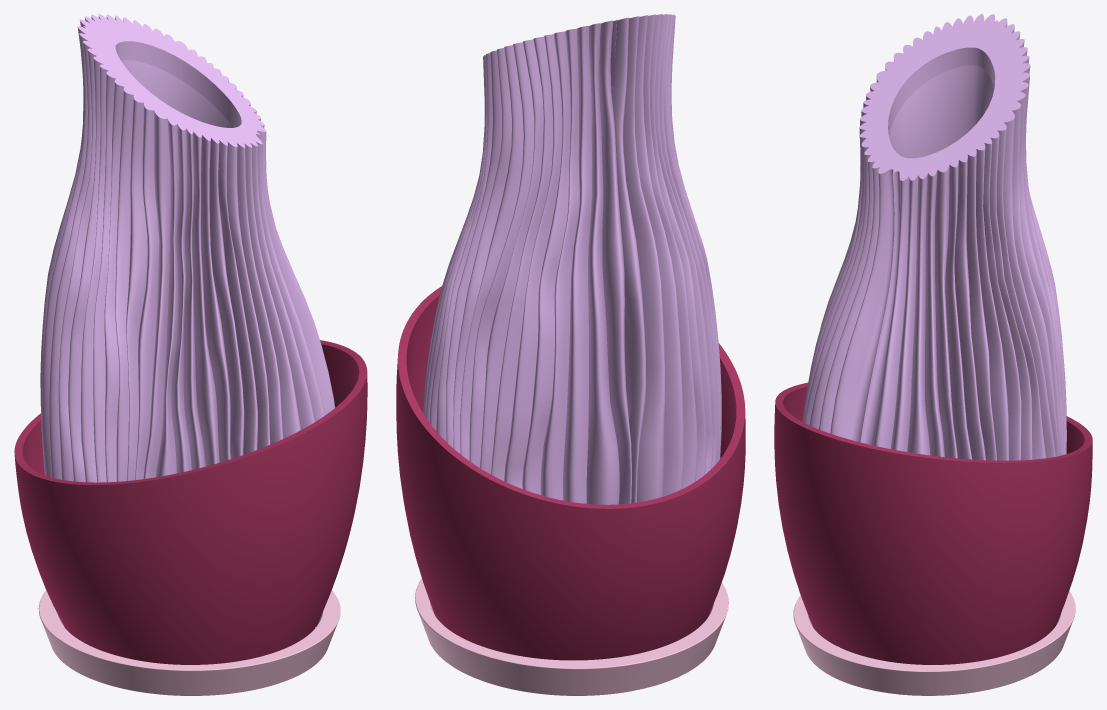
Rendered from Pitcher Vase.glb.
3 renders of one model, left to right at view 1: azimuth 30°, elevation 25°; view 2: azimuth 150°, elevation 25°; view 3: azimuth 270°, elevation 25°, orthographic. The views are drawn at different scales.
Visible parts, largest first — view 1: main_vase_1, water_collect_1, dish_1; view 2: main_vase_1, water_collect_1, dish_1; view 3: main_vase_1, water_collect_1, dish_1.
Boxes of the visible parts, <box> form: main_vase_1: <box>40,14,335,482</box>; water_collect_1: <box>14,340,367,664</box>; dish_1: <box>38,590,340,695</box>; main_vase_1: <box>423,14,721,504</box>; water_collect_1: <box>396,286,745,660</box>; dish_1: <box>415,578,728,695</box>; main_vase_1: <box>802,14,1066,460</box>; water_collect_1: <box>774,382,1092,664</box>; dish_1: <box>793,591,1075,695</box>.
Size of the model in its own units: 95.06 by 188 by 92.35.
